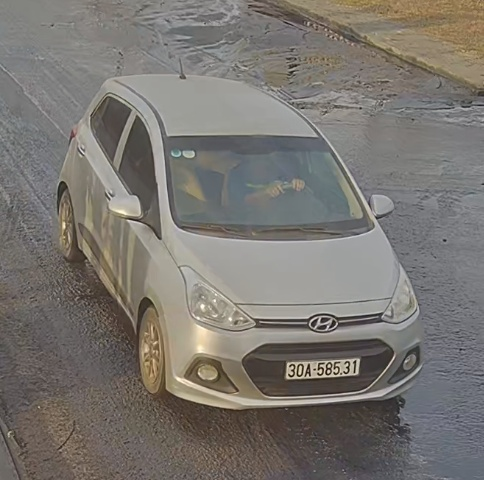vehicle plate: (276, 355, 366, 384)
